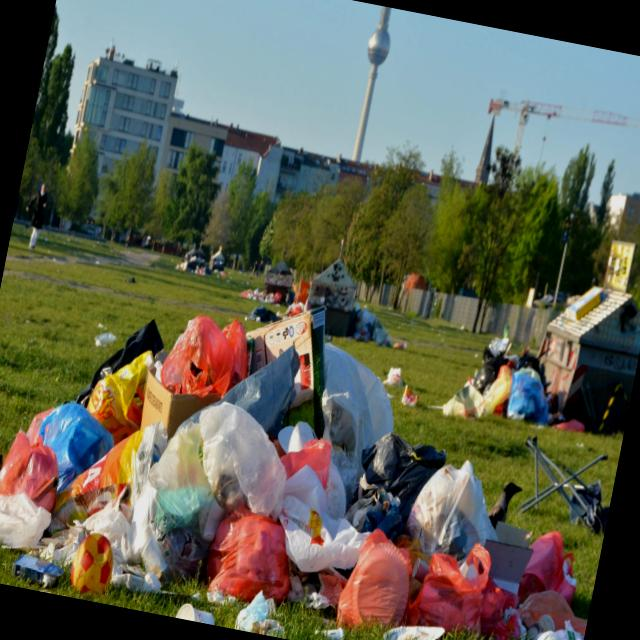garbage: (0, 246, 633, 640)
